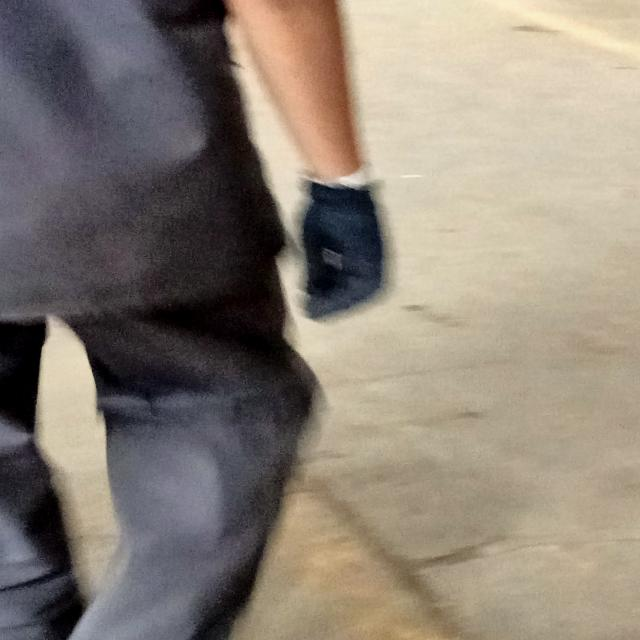Gloves-Detection: (292, 170, 422, 326)
